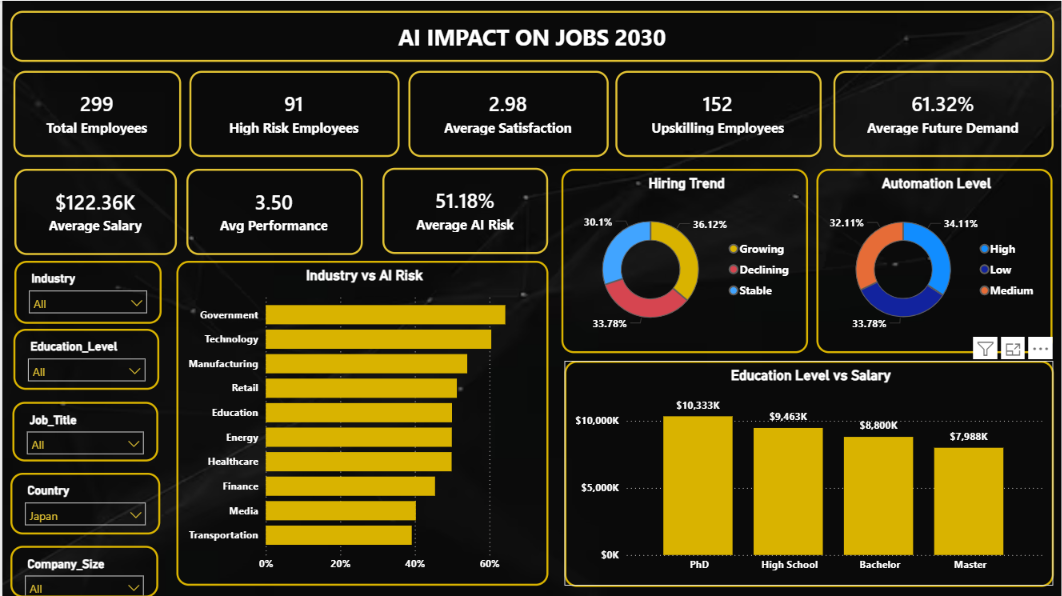

Layout of this report page (visuals, bound fields, positions):
{"tool":"powerbi","page":{"name":"Executive Summary","canvas":[1280,720],"ordinal":0},"visuals":[{"type":"textbox","box":[9.7,12.1,1259.5,61.5],"z":0},{"type":"cardVisual","fields":{"Data":["AI_Impact_on_Jobs_2030.Total Employees"]},"box":[13.3,84.5,202.7,103.8],"z":1000},{"type":"cardVisual","fields":{"Data":["AI_Impact_on_Jobs_2030.Average Salary"]},"box":[15,202.5,196.2,103.8],"z":2000},{"type":"cardVisual","fields":{"Data":["AI_Impact_on_Jobs_2030.Average AI Risk"]},"box":[458.4,201.5,200.3,103.8],"z":3000},{"type":"cardVisual","fields":{"Data":["AI_Impact_on_Jobs_2030.Average Future Demand"]},"box":[1002.6,84.5,265.4,103.8],"z":4000},{"type":"cardVisual","fields":{"Data":["AI_Impact_on_Jobs_2030.Average Satisfaction"]},"box":[489.8,84.5,241.3,103.8],"z":5000},{"type":"barChart","title":"Industry vs AI Risk","fields":{"Category":["AI_Impact_on_Jobs_2030.Industry"],"Y":["AI_Impact_on_Jobs_2030.Average AI Risk"]},"box":[209.9,313.7,448.8,392.1],"z":6000},{"type":"donutChart","title":" Hiring Trend","fields":{"Category":["AI_Impact_on_Jobs_2030.Hiring Outlook 2026"],"Y":["CountNonNull(AI_Impact_on_Jobs_2030.Employee_ID)"]},"box":[675,202.5,297.5,222.5],"z":7000},{"type":"donutChart","title":"Automation Level","fields":{"Y":["CountNonNull(AI_Impact_on_Jobs_2030.Employee_ID)"],"Category":["AI_Impact_on_Jobs_2030.Automation_Level"]},"box":[982.5,202.5,285,222.5],"z":8000},{"type":"slicer","fields":{"Values":["AI_Impact_on_Jobs_2030.Industry"]},"box":[15,313.8,177.5,76.2],"z":9000},{"type":"slicer","fields":{"Values":["AI_Impact_on_Jobs_2030.Company_Size"]},"box":[9.7,657.5,178.6,62.7],"z":10000},{"type":"slicer","fields":{"Values":["AI_Impact_on_Jobs_2030.Education_Level"]},"box":[13.8,396.2,176.2,73.8],"z":11000},{"type":"slicer","fields":{"Values":["AI_Impact_on_Jobs_2030.Country"]},"box":[9.7,569.4,181,74.8],"z":12000},{"type":"slicer","fields":{"Values":["AI_Impact_on_Jobs_2030.Job_Title"]},"box":[12.1,483.8,176.1,72.4],"z":13000},{"type":"cardVisual","fields":{"Data":["AI_Impact_on_Jobs_2030.High Risk Employees"]},"box":[225.6,84.5,253.4,103.8],"z":14000},{"type":"cardVisual","fields":{"Data":["AI_Impact_on_Jobs_2030.Avg Performance"]},"box":[222.5,202.5,212.5,103.8],"z":15000},{"type":"cardVisual","fields":{"Data":["AI_Impact_on_Jobs_2030.Upskilling Employees"]},"box":[739.5,84.5,248.5,103.8],"z":16000},{"type":"columnChart","title":"Education Level vs Salary","fields":{"Category":["AI_Impact_on_Jobs_2030.Education_Level"],"Y":["Sum(AI_Impact_on_Jobs_2030.Average Annual Salary (USD))"]},"box":[677.5,433.8,590,272.5],"z":17000}]}

Visuals, with their boxes in screenshot pixels (x1, y1, x2, y2), scaled from the page's 1280x720 canvas onto the 1062x596 screenshot:
textbox: (x1=8, y1=10, x2=1053, y2=61)
cardVisual - AI_Impact_on_Jobs_2030.Total Employees: (x1=11, y1=70, x2=179, y2=156)
cardVisual - AI_Impact_on_Jobs_2030.Average Salary: (x1=12, y1=168, x2=175, y2=254)
cardVisual - AI_Impact_on_Jobs_2030.Average AI Risk: (x1=380, y1=167, x2=547, y2=253)
cardVisual - AI_Impact_on_Jobs_2030.Average Future Demand: (x1=832, y1=70, x2=1052, y2=156)
cardVisual - AI_Impact_on_Jobs_2030.Average Satisfaction: (x1=406, y1=70, x2=607, y2=156)
"Industry vs AI Risk" barChart: (x1=174, y1=260, x2=547, y2=584)
" Hiring Trend" donutChart: (x1=560, y1=168, x2=807, y2=352)
"Automation Level" donutChart: (x1=815, y1=168, x2=1052, y2=352)
slicer - AI_Impact_on_Jobs_2030.Industry: (x1=12, y1=260, x2=160, y2=323)
slicer - AI_Impact_on_Jobs_2030.Company_Size: (x1=8, y1=544, x2=156, y2=595)
slicer - AI_Impact_on_Jobs_2030.Education_Level: (x1=11, y1=328, x2=158, y2=389)
slicer - AI_Impact_on_Jobs_2030.Country: (x1=8, y1=471, x2=158, y2=533)
slicer - AI_Impact_on_Jobs_2030.Job_Title: (x1=10, y1=400, x2=156, y2=460)
cardVisual - AI_Impact_on_Jobs_2030.High Risk Employees: (x1=187, y1=70, x2=397, y2=156)
cardVisual - AI_Impact_on_Jobs_2030.Avg Performance: (x1=185, y1=168, x2=361, y2=254)
cardVisual - AI_Impact_on_Jobs_2030.Upskilling Employees: (x1=614, y1=70, x2=820, y2=156)
"Education Level vs Salary" columnChart: (x1=562, y1=359, x2=1052, y2=585)
